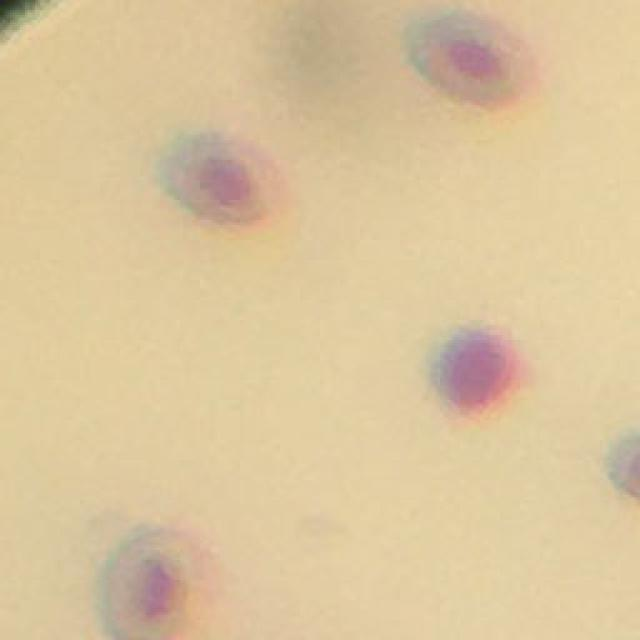RBC: (98, 532, 202, 640), (408, 12, 530, 103), (165, 131, 279, 220)
WBC: (441, 330, 517, 409)
